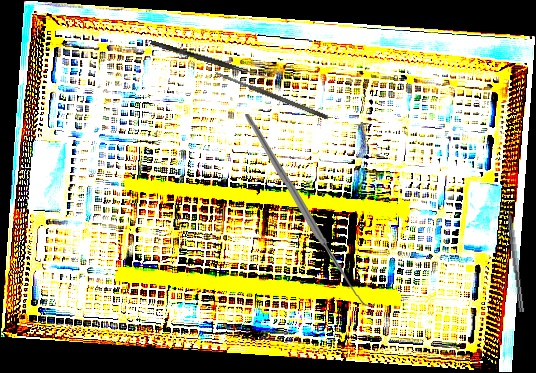Chopper: (503, 196, 532, 313)
Hook Surgical: (245, 111, 375, 309), (149, 40, 270, 80)
Spatula Surgical: (213, 69, 330, 121)
